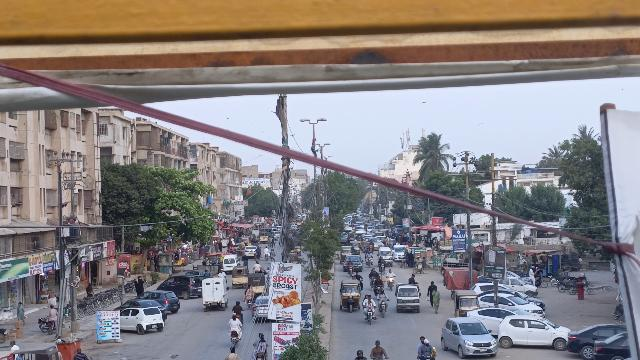Bike: (363, 306, 376, 326), (228, 329, 241, 348), (377, 298, 389, 318), (45, 320, 57, 336), (373, 284, 384, 298)
Car: (498, 315, 570, 354), (440, 316, 498, 359), (566, 324, 629, 360), (467, 304, 516, 336), (119, 307, 166, 336), (138, 288, 182, 316), (156, 274, 204, 299), (592, 331, 631, 360), (115, 298, 168, 317), (251, 294, 269, 322)
Person: (131, 272, 147, 298), (253, 331, 267, 355), (431, 286, 442, 316), (15, 301, 28, 326), (371, 338, 387, 356), (227, 312, 242, 331), (427, 278, 436, 308), (419, 338, 434, 356), (47, 303, 59, 320), (376, 286, 388, 302), (364, 291, 374, 309), (374, 276, 383, 286)
Rickshaw: (336, 279, 363, 313), (452, 289, 480, 318), (231, 265, 250, 289), (248, 274, 268, 295)
Suzuki: (393, 274, 423, 315)
Truck: (199, 275, 230, 313)
